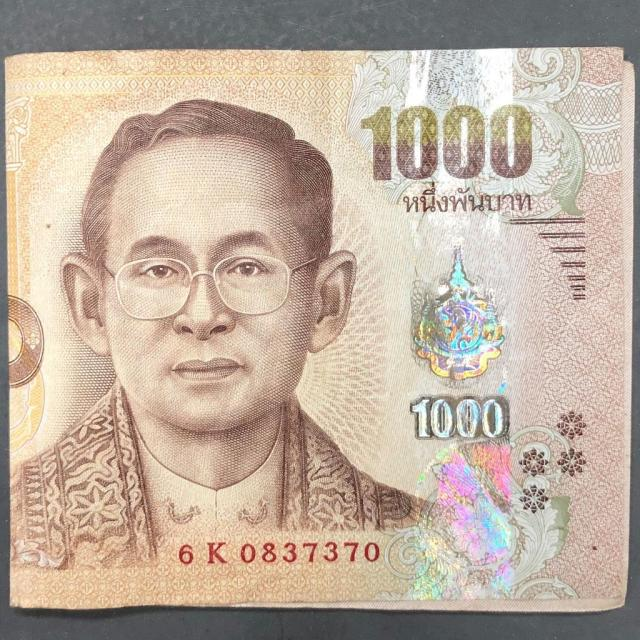THAI1000: (6, 48, 634, 612)
